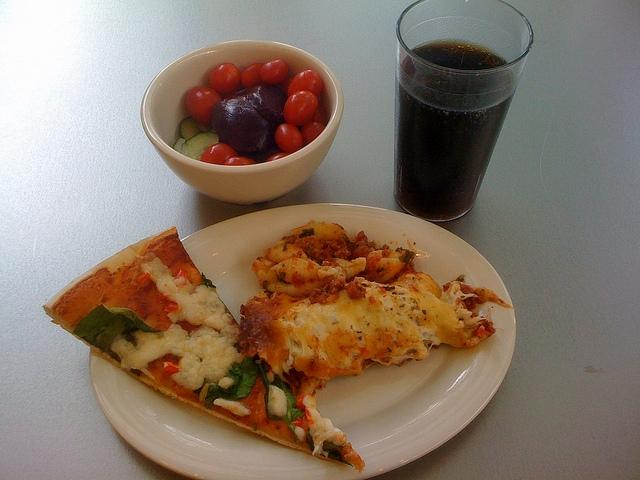cucumber: (180, 132, 219, 161), (173, 138, 186, 154)
tomato: (186, 86, 222, 125), (284, 90, 318, 126), (208, 62, 240, 94), (287, 70, 323, 98), (274, 123, 303, 154), (200, 142, 238, 165), (241, 62, 269, 88), (260, 59, 288, 84), (300, 122, 326, 148), (308, 103, 327, 125), (278, 77, 294, 100), (224, 156, 256, 166), (174, 269, 188, 286), (266, 153, 292, 162), (305, 407, 315, 424), (163, 365, 179, 375), (295, 398, 306, 410), (166, 302, 178, 312), (138, 274, 150, 284), (478, 328, 490, 336), (369, 262, 376, 270), (308, 262, 314, 271), (381, 288, 386, 293)
